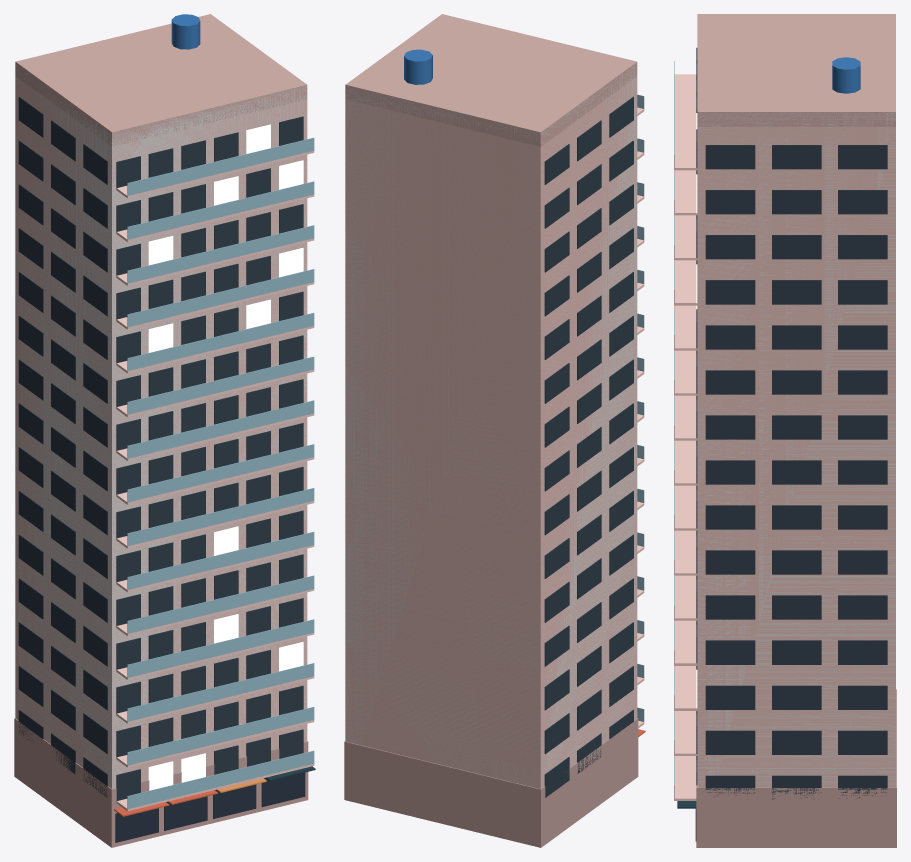
Rendered from edificio_playa_rosa.glb.
3 views of the same model, side by side, from view 1: azimuth 30°, elevation 25°; view 2: azimuth 150°, elevation 25°; view 3: azimuth 270°, elevation 25° (orthographic). The views are drawn at different scales.
Parts seen in each view (by area): view 1: edificio_playa_rosa_Malla, COL_0; view 2: edificio_playa_rosa_Malla, COL_0; view 3: edificio_playa_rosa_Malla, COL_0.
Boxes of the visible parts, x1,y1,x2,y2 form: edificio_playa_rosa_Malla: (14,14,315,847); COL_0: (15,63,307,788); edificio_playa_rosa_Malla: (344,14,645,847); COL_0: (345,63,637,788); edificio_playa_rosa_Malla: (674,14,896,847); COL_0: (697,112,895,787).
Bounding box in the file's own units: 14.1 × 50.6 × 13.45.
